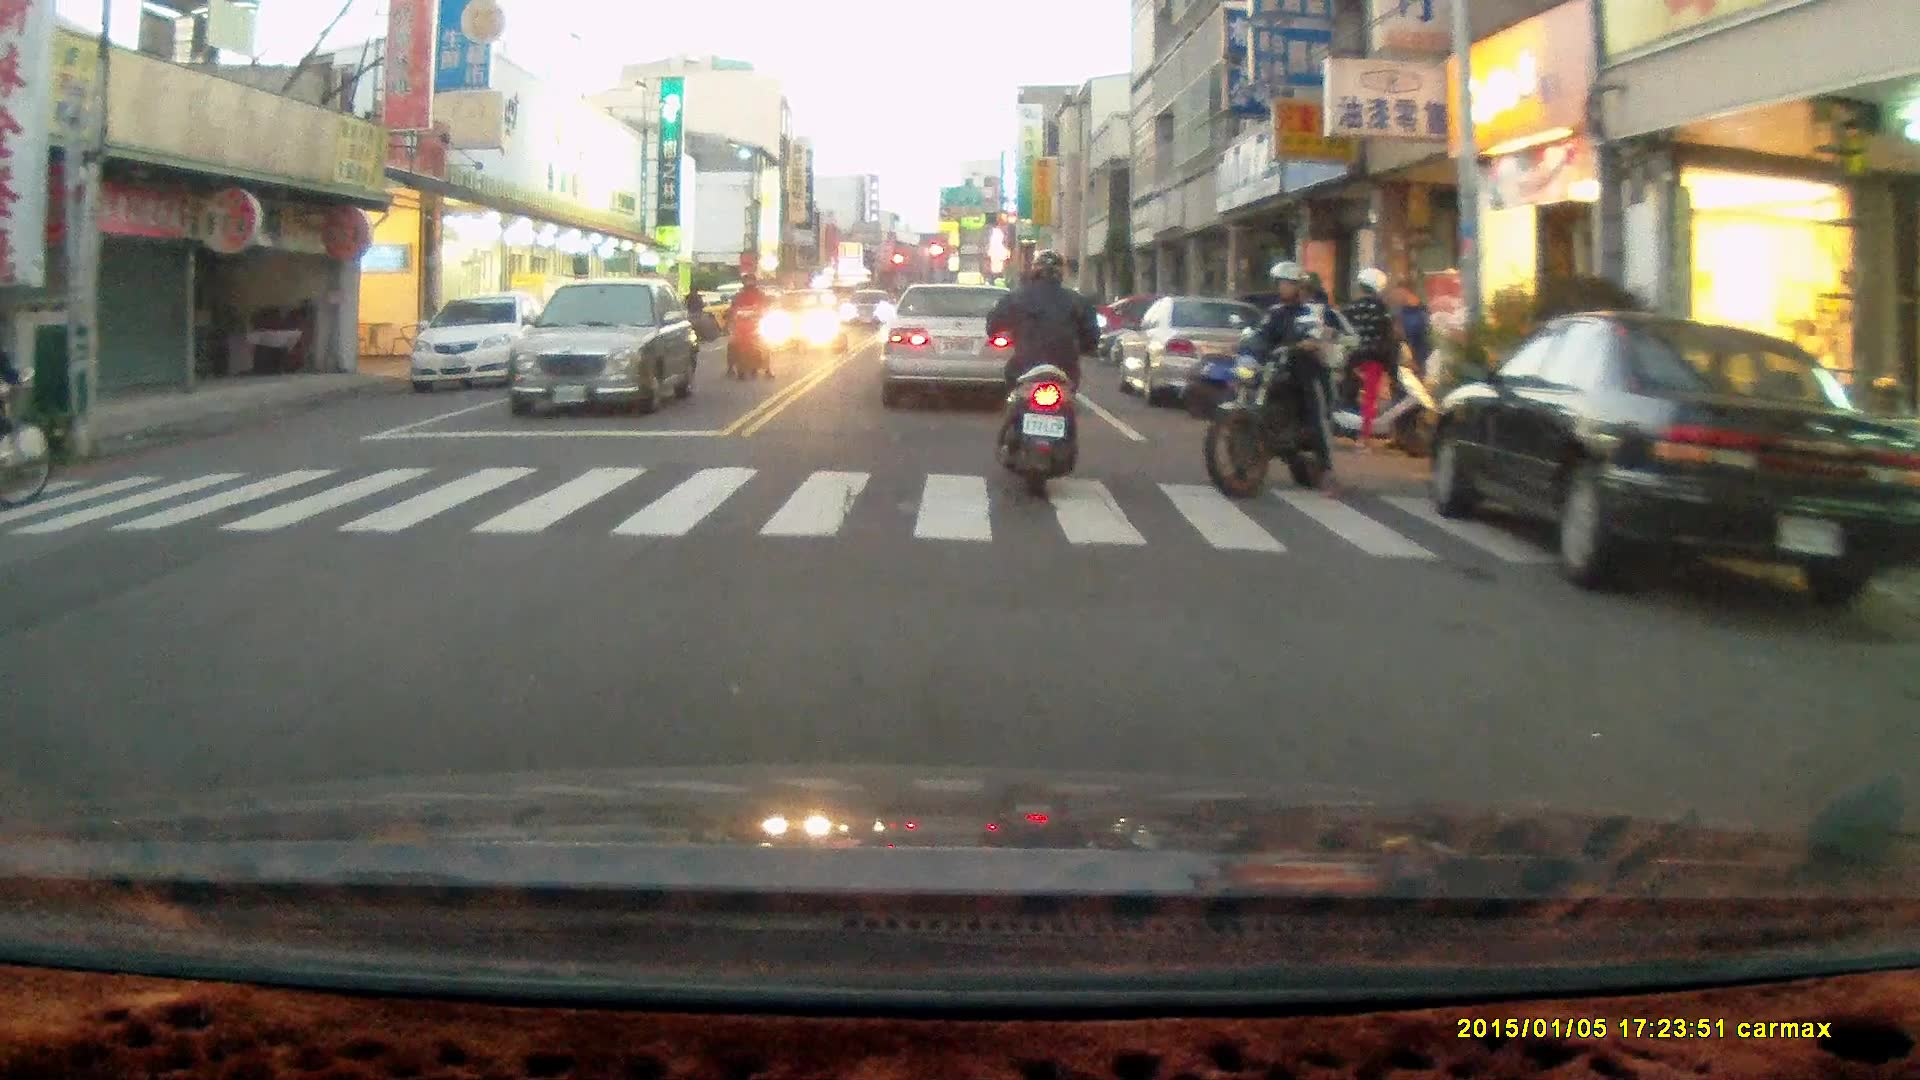pedestrian: (1346, 267, 1398, 444), (1387, 281, 1435, 425), (678, 278, 704, 351)
rider: (1200, 257, 1368, 498), (987, 245, 1105, 495), (0, 317, 56, 512), (720, 271, 774, 383)
vehicle: (1437, 314, 1920, 605), (508, 277, 703, 420), (876, 286, 1031, 411), (1111, 296, 1286, 405), (408, 290, 563, 397), (757, 288, 848, 361)
